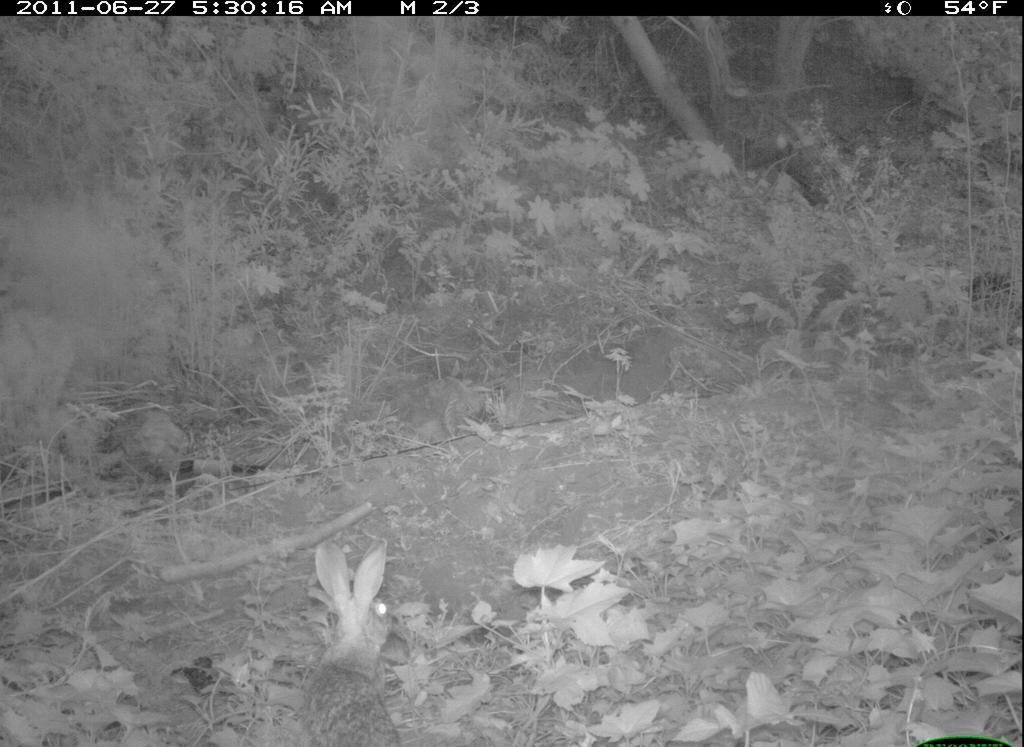rabbit: (300, 532, 402, 745)
